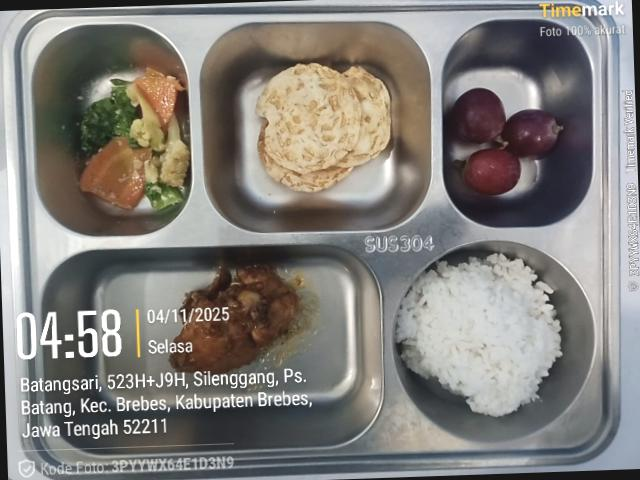ayam: (169, 265, 299, 373)
buah: (452, 88, 563, 195)
nasi: (396, 253, 562, 416)
sayur: (79, 68, 190, 210)
tempe: (256, 63, 390, 192)
